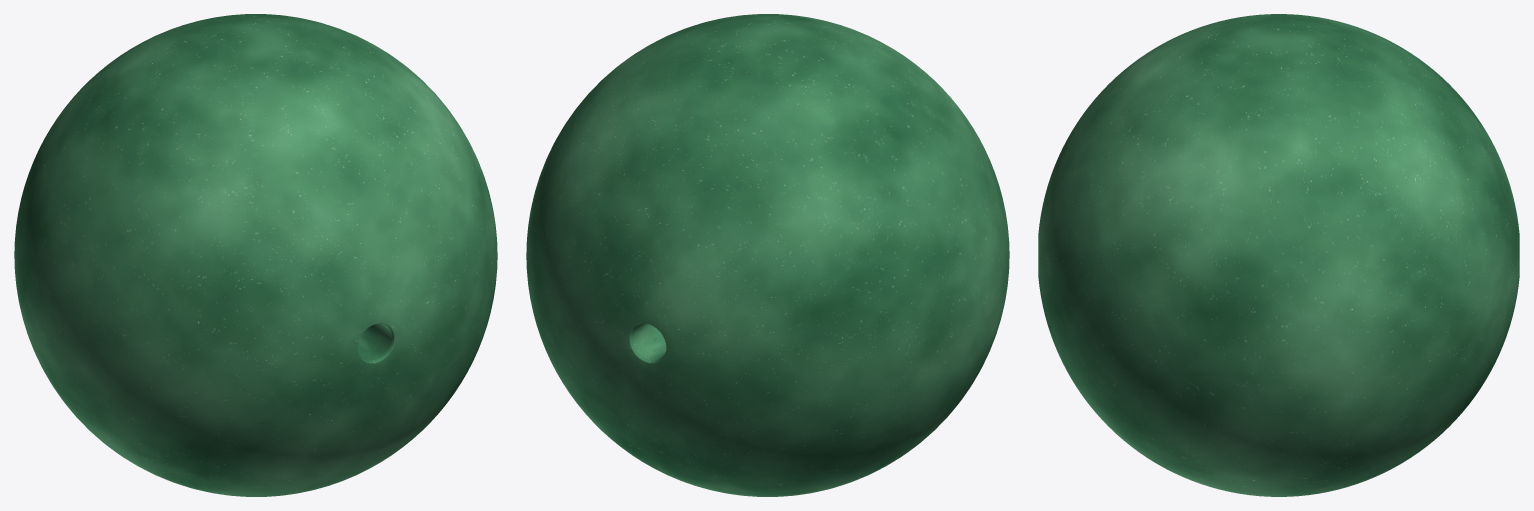
The model's file is green-aventurine-12mm.glb.
3 views of the same model, side by side, from view 1: azimuth 30°, elevation 25°; view 2: azimuth 150°, elevation 25°; view 3: azimuth 270°, elevation 25° (orthographic).
Visible parts, largest first — view 1: green-aventurine.001; view 2: green-aventurine.001; view 3: green-aventurine.001.
Boxes of the visible parts, x1,y1,x2,y2 form: green-aventurine.001: (14, 14, 497, 496); green-aventurine.001: (526, 14, 1009, 496); green-aventurine.001: (1038, 14, 1519, 496).
Bounding box in the file's own units: 0.012 × 0.012 × 0.012.
1 material, 1 textured.
